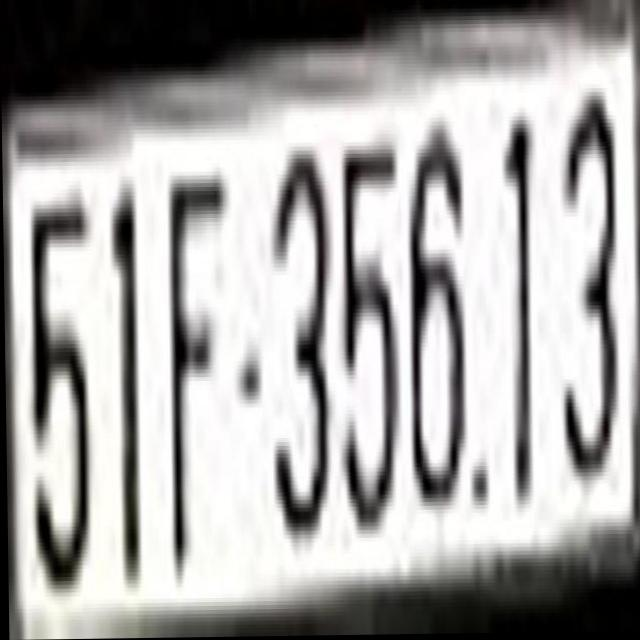1: (498, 83, 539, 514), (107, 173, 147, 588)
3: (264, 113, 332, 555), (558, 82, 622, 491)
5: (20, 189, 89, 586), (337, 127, 400, 539)
6: (401, 122, 466, 527)
F: (163, 140, 230, 580)
